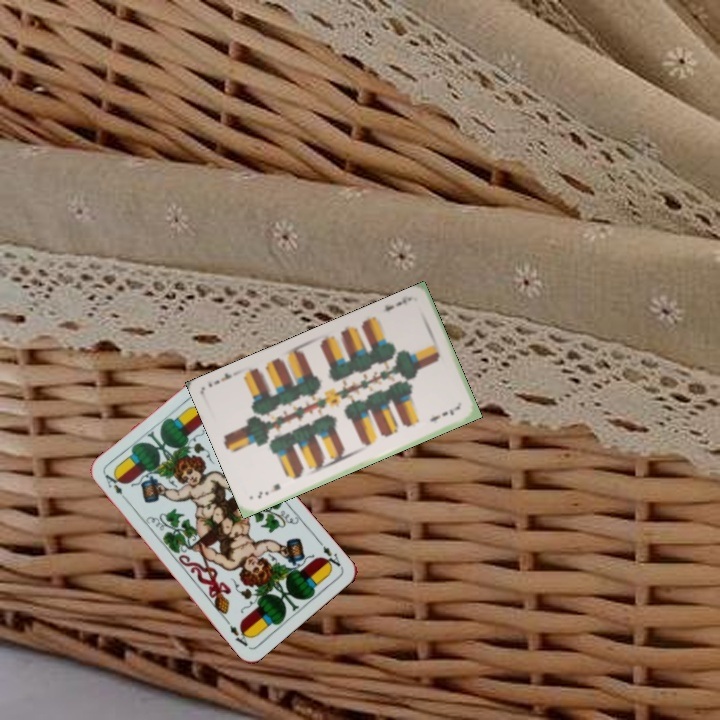E7: (381, 292, 414, 314), (253, 480, 283, 501)
EA: (314, 536, 344, 572), (101, 470, 131, 504)
